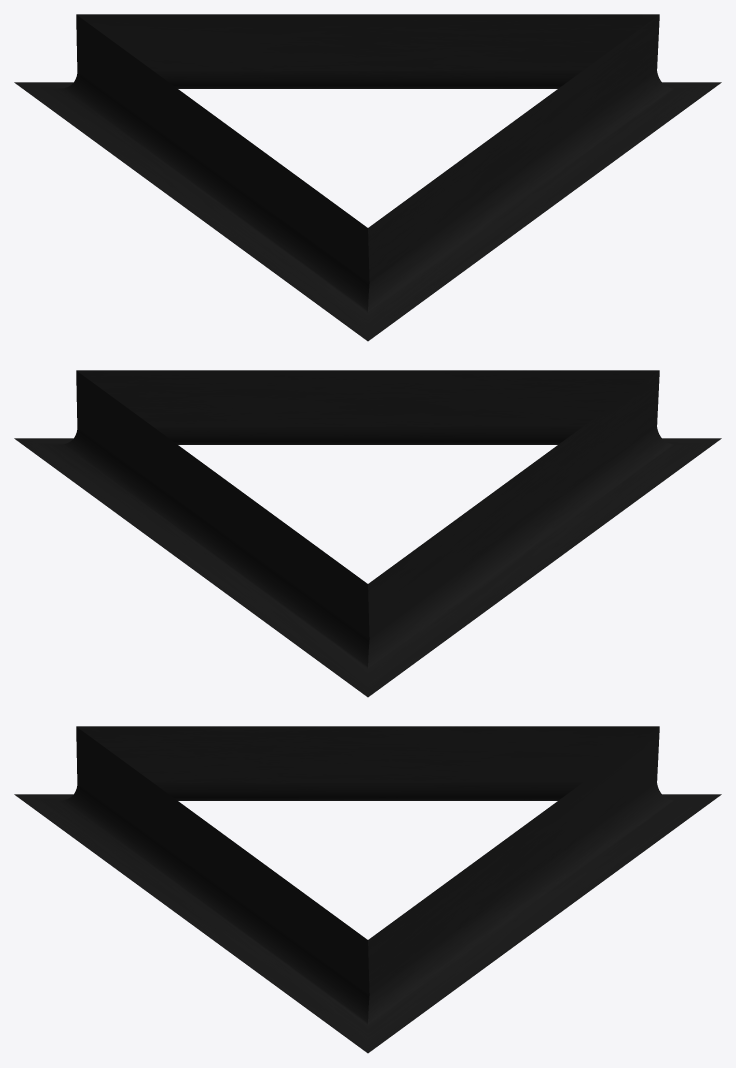
Rendered from 8Ball Rack.fbx.
3 renders of one model, top to bottom at view 1: azimuth 30°, elevation 25°; view 2: azimuth 150°, elevation 25°; view 3: azimuth 270°, elevation 25°, orthographic.
Parts seen in each view (by area): view 1: Lathe; view 2: Lathe; view 3: Lathe.
Part boxes in pixels (x1,y1,x2,y2): Lathe: (14, 14, 721, 341); Lathe: (14, 370, 721, 697); Lathe: (14, 726, 721, 1053).
Bounding box in the file's own units: 338 × 50.6 × 390.
1 material, 1 textured.
